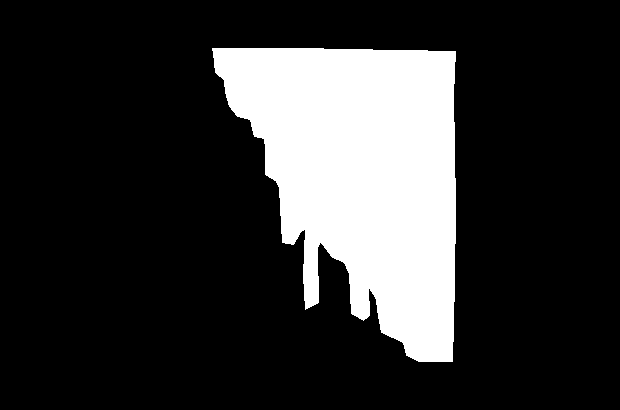type2: (209, 44, 458, 367)
